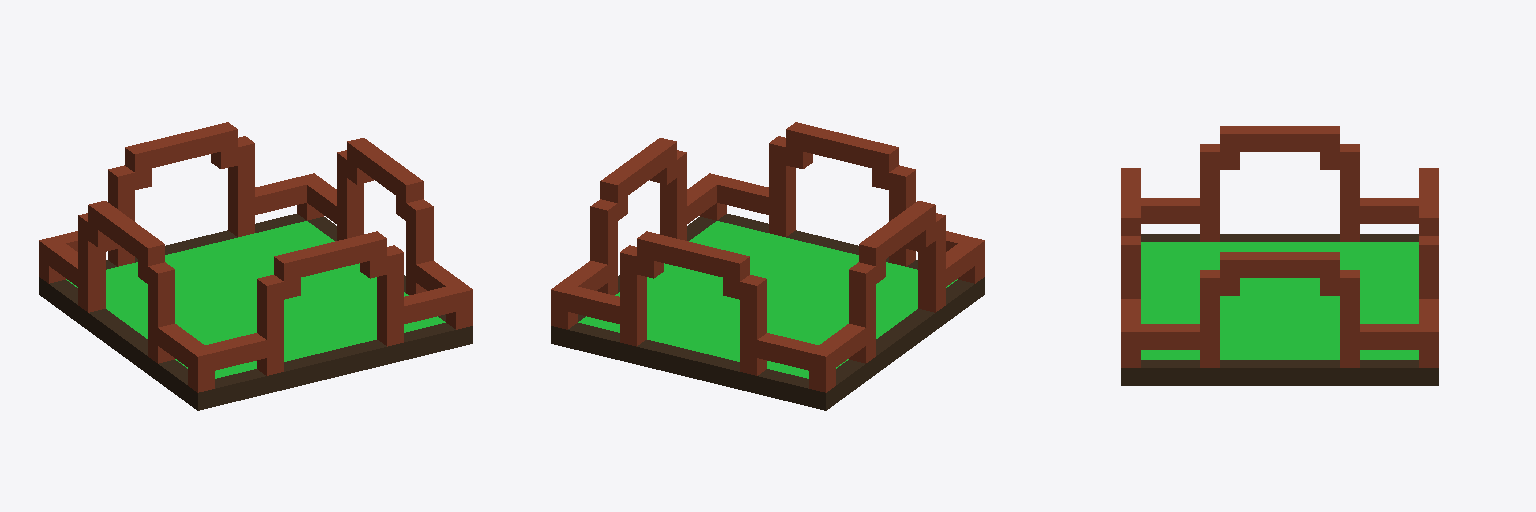
The model's file is Ground_Layer Colored.obj.
3 views of the same model, side by side, from view 1: azimuth 30°, elevation 25°; view 2: azimuth 150°, elevation 25°; view 3: azimuth 270°, elevation 25° (orthographic).
Visible parts, largest first — view 1: Ground_Layer Colored; view 2: Ground_Layer Colored; view 3: Ground_Layer Colored.
Part boxes in pixels (x1,y1,x2,y2): Ground_Layer Colored: (39, 122, 472, 410); Ground_Layer Colored: (551, 122, 984, 410); Ground_Layer Colored: (1121, 126, 1438, 385).
Bounding box in the file's own units: 1 × 0.4375 × 1.